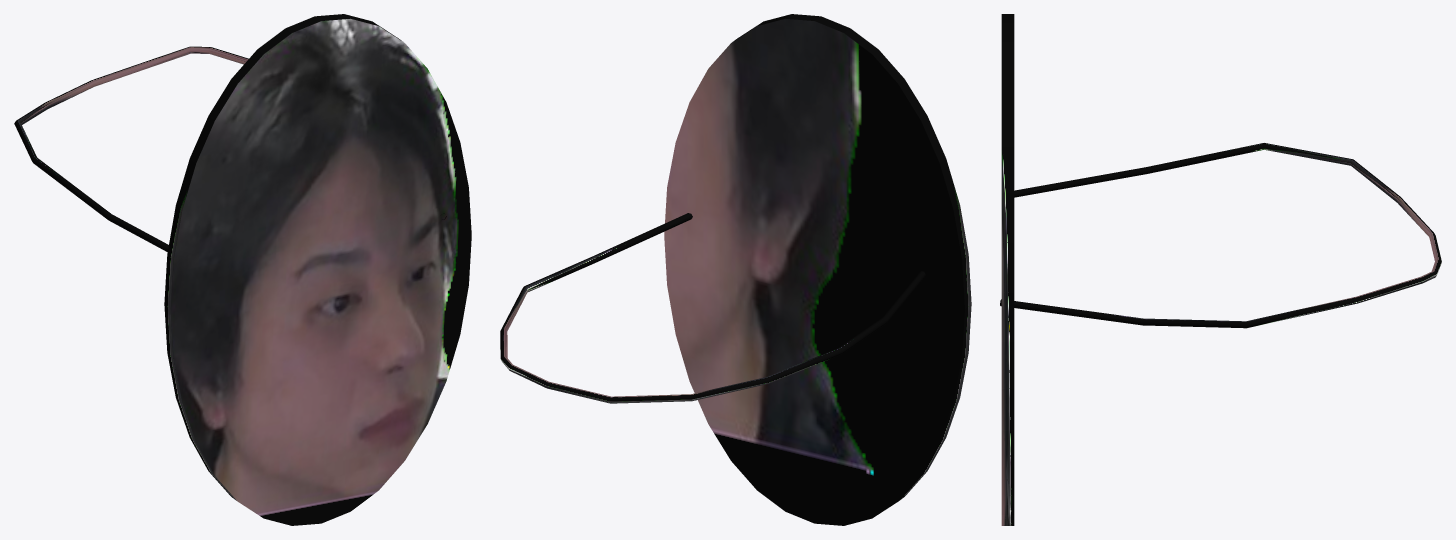
Rendered from gatsumask.fbx.
The picture shows the model from 3 angles, left to right: view 1: azimuth 30°, elevation 25°; view 2: azimuth 150°, elevation 25°; view 3: azimuth 270°, elevation 25°; orthographic projection.
Parts seen in each view (by area): view 1: kutu.003; view 2: kutu.003; view 3: kutu.003.
Boxes of the visible parts, <box> form: kutu.003: <box>14,14,471,525</box>; kutu.003: <box>500,14,971,525</box>; kutu.003: <box>1000,14,1441,525</box>.
Bounding box in the file's own units: 42.62 × 62.07 × 50.4.
